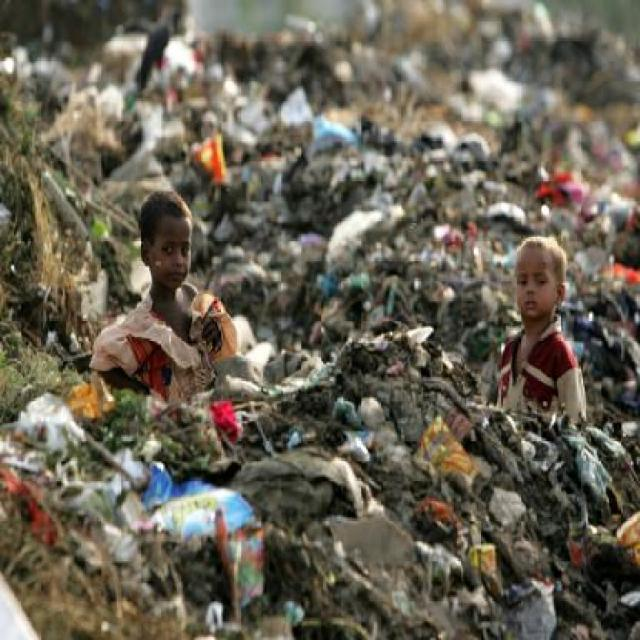garbage: (91, 433, 294, 640), (359, 394, 516, 593), (379, 115, 596, 224), (193, 130, 232, 189)
